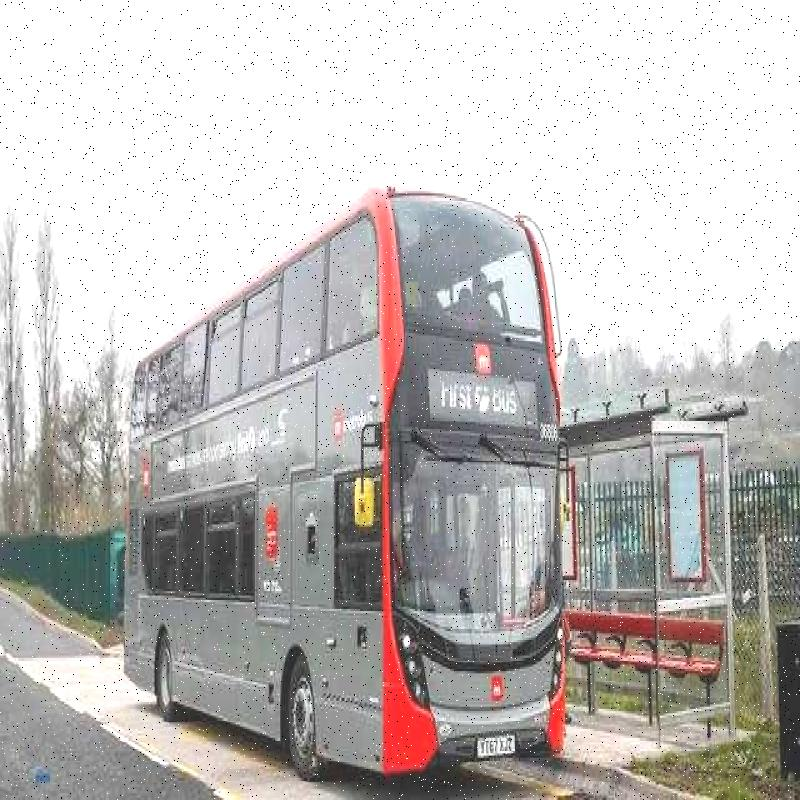bus: (136, 157, 580, 796)
